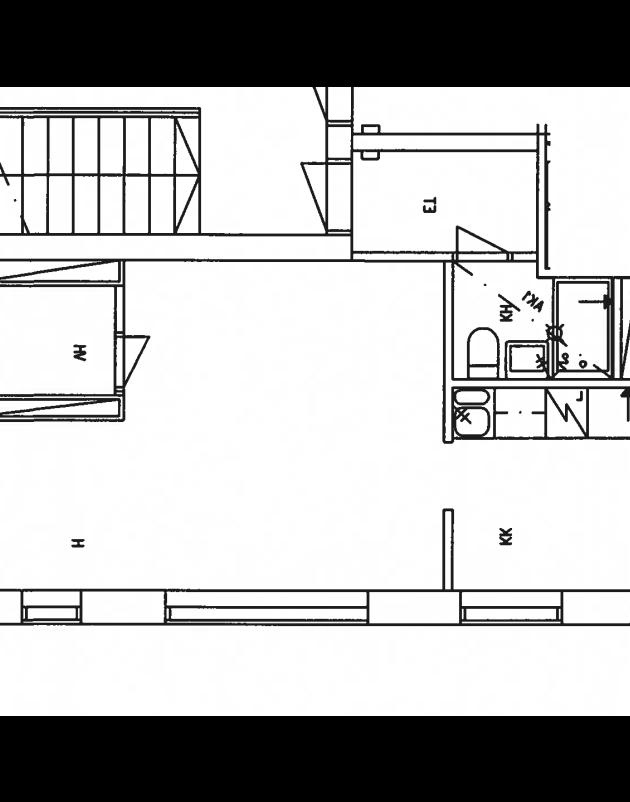door: (294, 156, 342, 228), (115, 331, 152, 391), (452, 224, 514, 256)
window: (160, 582, 383, 630), (460, 583, 574, 633), (11, 584, 87, 628)
